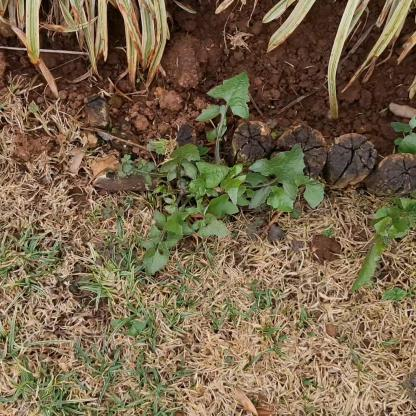Weeds: (120, 70, 325, 277), (350, 113, 415, 306)
